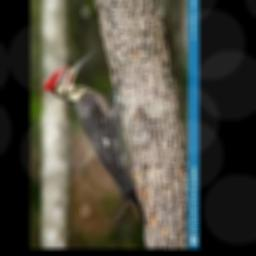Woodpecker: (44, 51, 145, 224)
